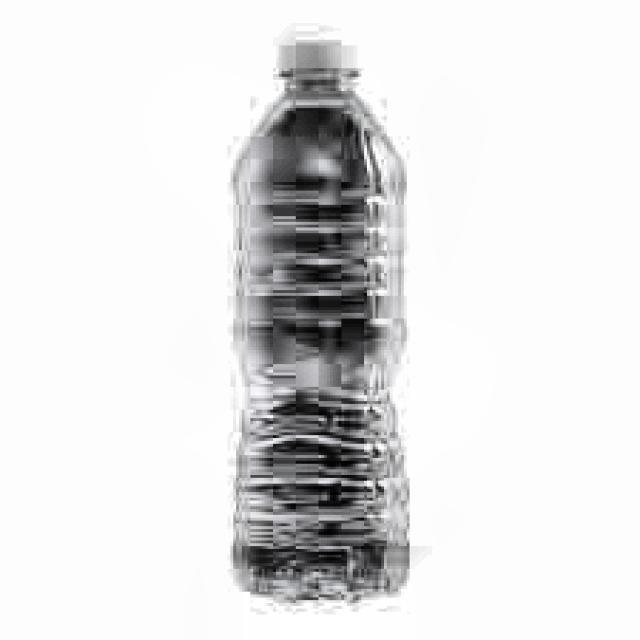plastic bottle: (234, 44, 409, 597)
